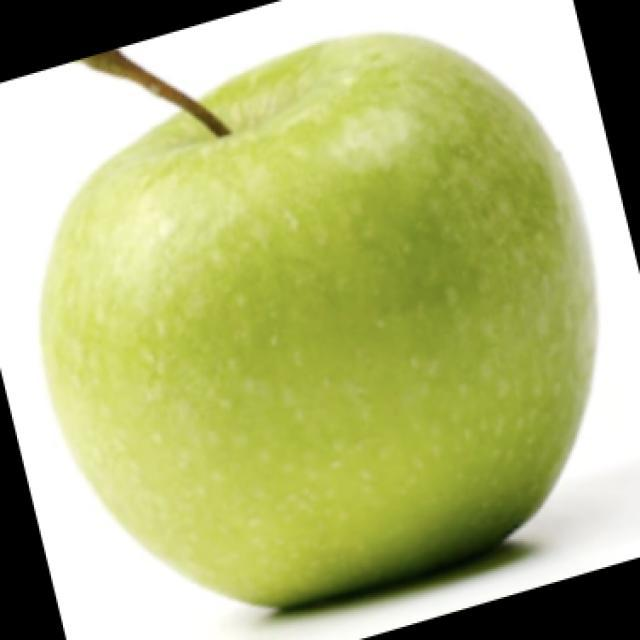Fresh Apple: (46, 39, 596, 594)
